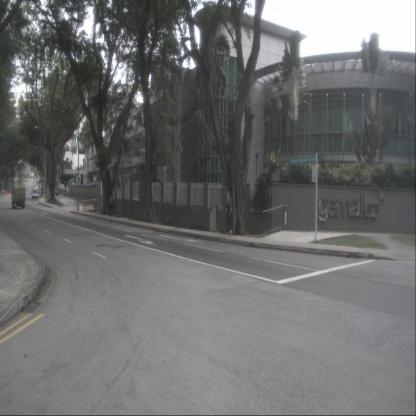human-pedestrian-adult: (224, 196, 233, 238), (109, 194, 114, 216)
vehicle-car: (32, 190, 38, 199)
vehicle-truck: (11, 187, 26, 209)
